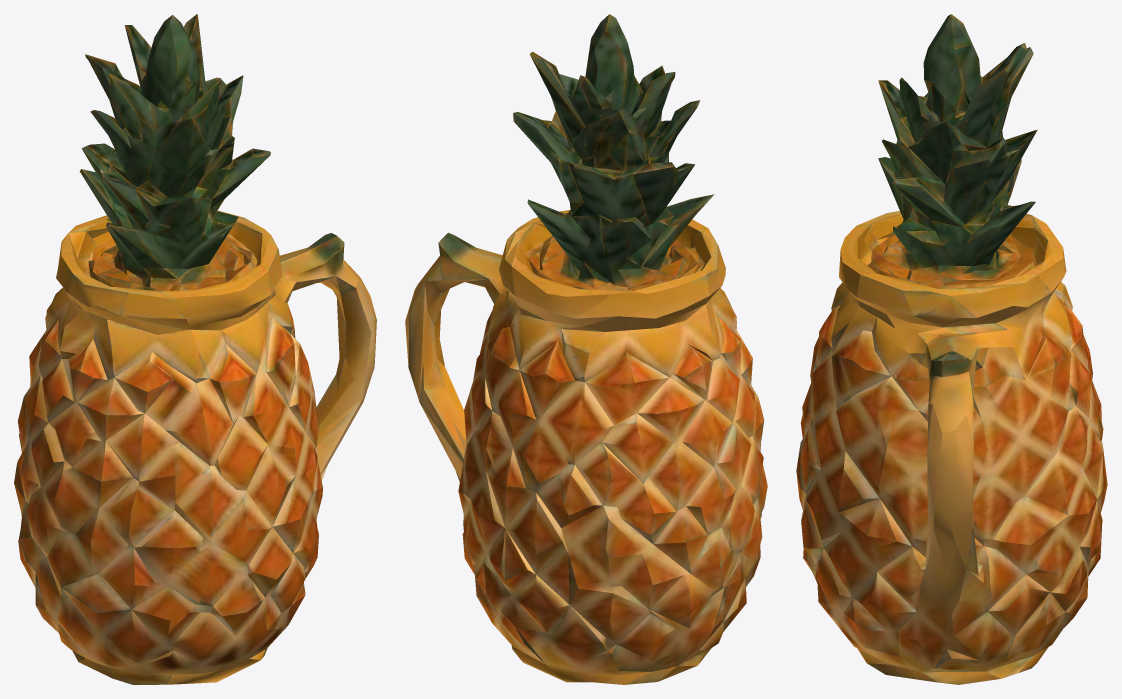
File: pineapple-mug.glb
The picture shows the model from 3 angles, left to right: view 1: azimuth 30°, elevation 25°; view 2: azimuth 150°, elevation 25°; view 3: azimuth 270°, elevation 25°; orthographic projection.
Parts seen in each view (by area): view 1: output_unwrapped; view 2: output_unwrapped; view 3: output_unwrapped.
Part boxes in pixels (x1,y1,x2,y2): output_unwrapped: [14, 14, 376, 684]; output_unwrapped: [405, 14, 767, 684]; output_unwrapped: [796, 14, 1107, 684].
Bounding box in the file's own units: 1.07 × 1.9 × 0.8491.
Materials: 1 (1 with a texture image).
